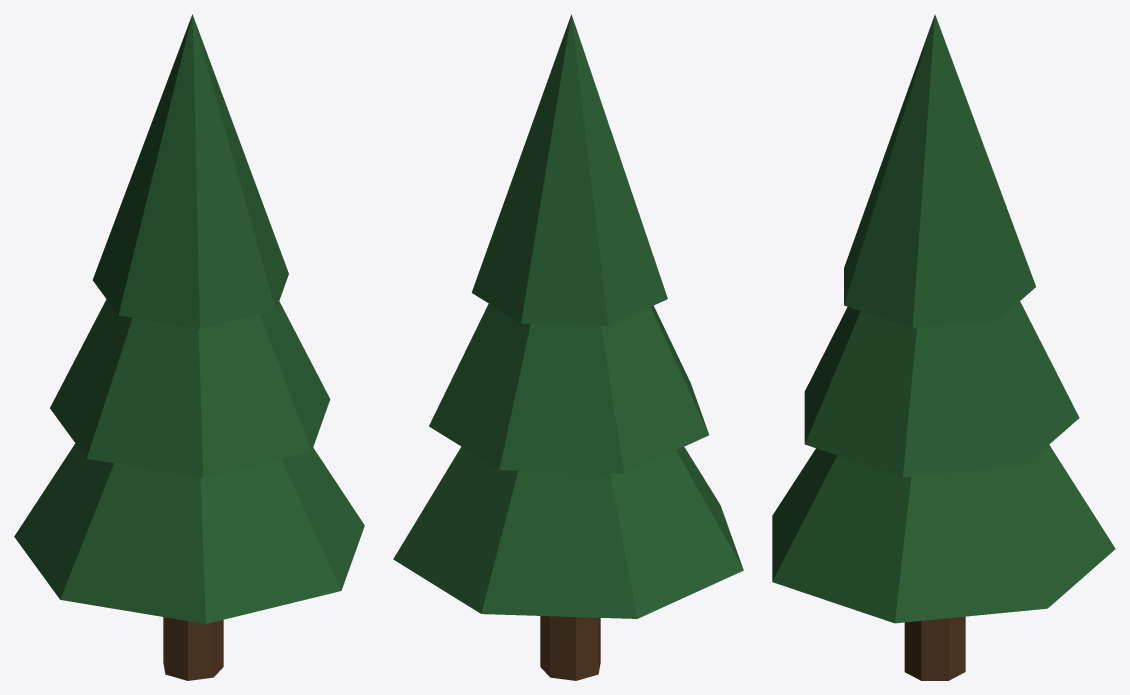
Rendered from tree.obj.
3 renders of one model, left to right at view 1: azimuth 30°, elevation 25°; view 2: azimuth 150°, elevation 25°; view 3: azimuth 270°, elevation 25°, orthographic.
Visible parts, largest first — view 1: Needles, Trunk; view 2: Needles, Trunk; view 3: Needles, Trunk.
Boxes of the visible parts, left/top/right/bottom form: Needles: left=14, top=14, right=364, bottom=623; Trunk: left=163, top=617, right=223, bottom=680; Needles: left=393, top=14, right=743, bottom=618; Trunk: left=540, top=616, right=600, bottom=680; Needles: left=772, top=14, right=1115, bottom=623; Trunk: left=904, top=616, right=965, bottom=680.
Size of the model in its own units: 1.46 by 3 by 1.43.
